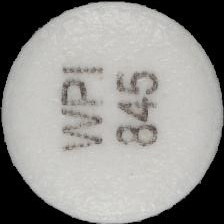0615-5584: (0, 0, 224, 224)
